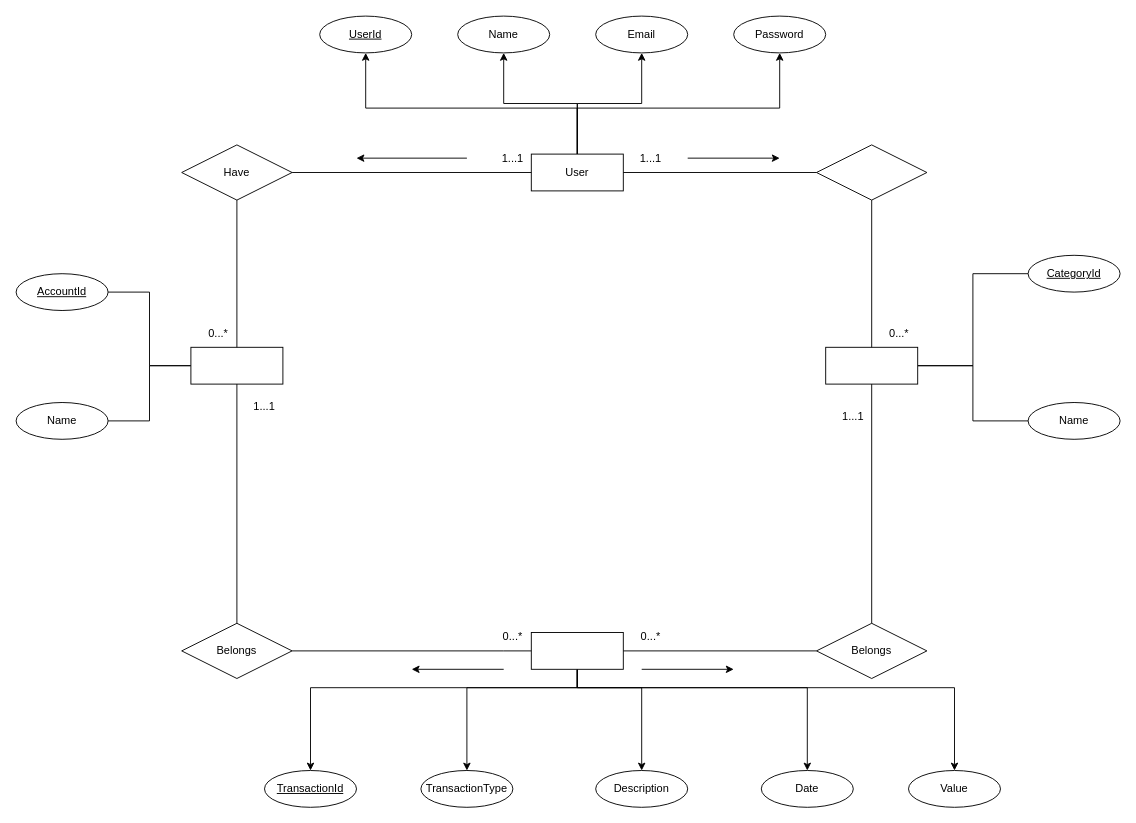
Some shapes in this 1136 by 823 pixel diagram are drawn without their labels. The shapes that lost their labels are listed below. From the top down, each one's box as (x1, y1, x2, y2) in pixels, then its label:
(816, 144, 927, 200): Create
(190, 346, 283, 384): Account
(825, 346, 918, 384): Category
(530, 632, 623, 669): Transaction
